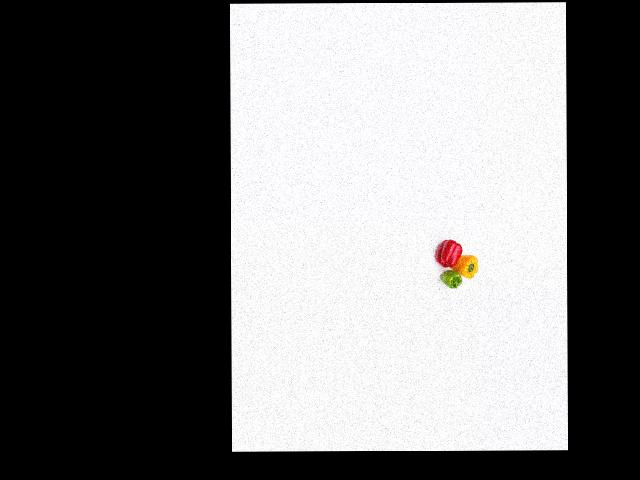bell_pepper: (439, 269, 464, 293)
